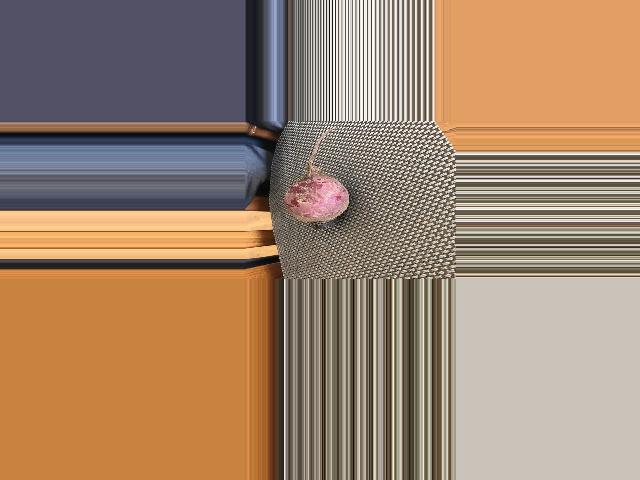beet: (283, 129, 348, 230)
